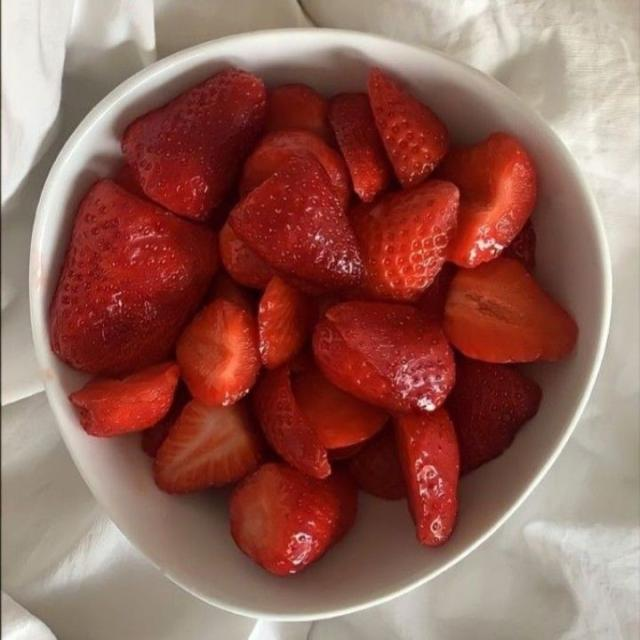strawberry sliced: (50, 180, 217, 376), (122, 70, 266, 219), (230, 154, 364, 288), (313, 302, 454, 411), (230, 463, 357, 575), (444, 258, 577, 363), (438, 133, 536, 267), (352, 181, 458, 301), (448, 357, 541, 474), (154, 400, 261, 492), (368, 68, 448, 187), (176, 299, 259, 405), (396, 408, 459, 545), (240, 130, 350, 208), (254, 366, 330, 478), (70, 363, 179, 436), (292, 367, 387, 449), (329, 94, 392, 202), (258, 277, 314, 369), (349, 429, 406, 500), (266, 84, 332, 142), (141, 382, 190, 458), (220, 223, 273, 288), (325, 468, 358, 542), (418, 262, 456, 322), (208, 272, 255, 313), (502, 219, 535, 270), (114, 164, 146, 198), (328, 442, 365, 461)
